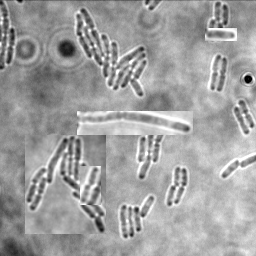Dividing: (77, 111, 193, 135), (80, 166, 101, 205), (175, 167, 189, 204), (238, 99, 255, 128), (209, 54, 222, 90), (205, 28, 237, 41), (217, 56, 228, 92), (7, 27, 17, 64)
Microcolony: (25, 135, 106, 234), (76, 7, 147, 98), (120, 195, 155, 238), (137, 135, 168, 180), (208, 1, 229, 42)
Rod: (233, 106, 251, 135), (222, 157, 240, 178), (167, 184, 177, 206), (174, 166, 183, 187)
